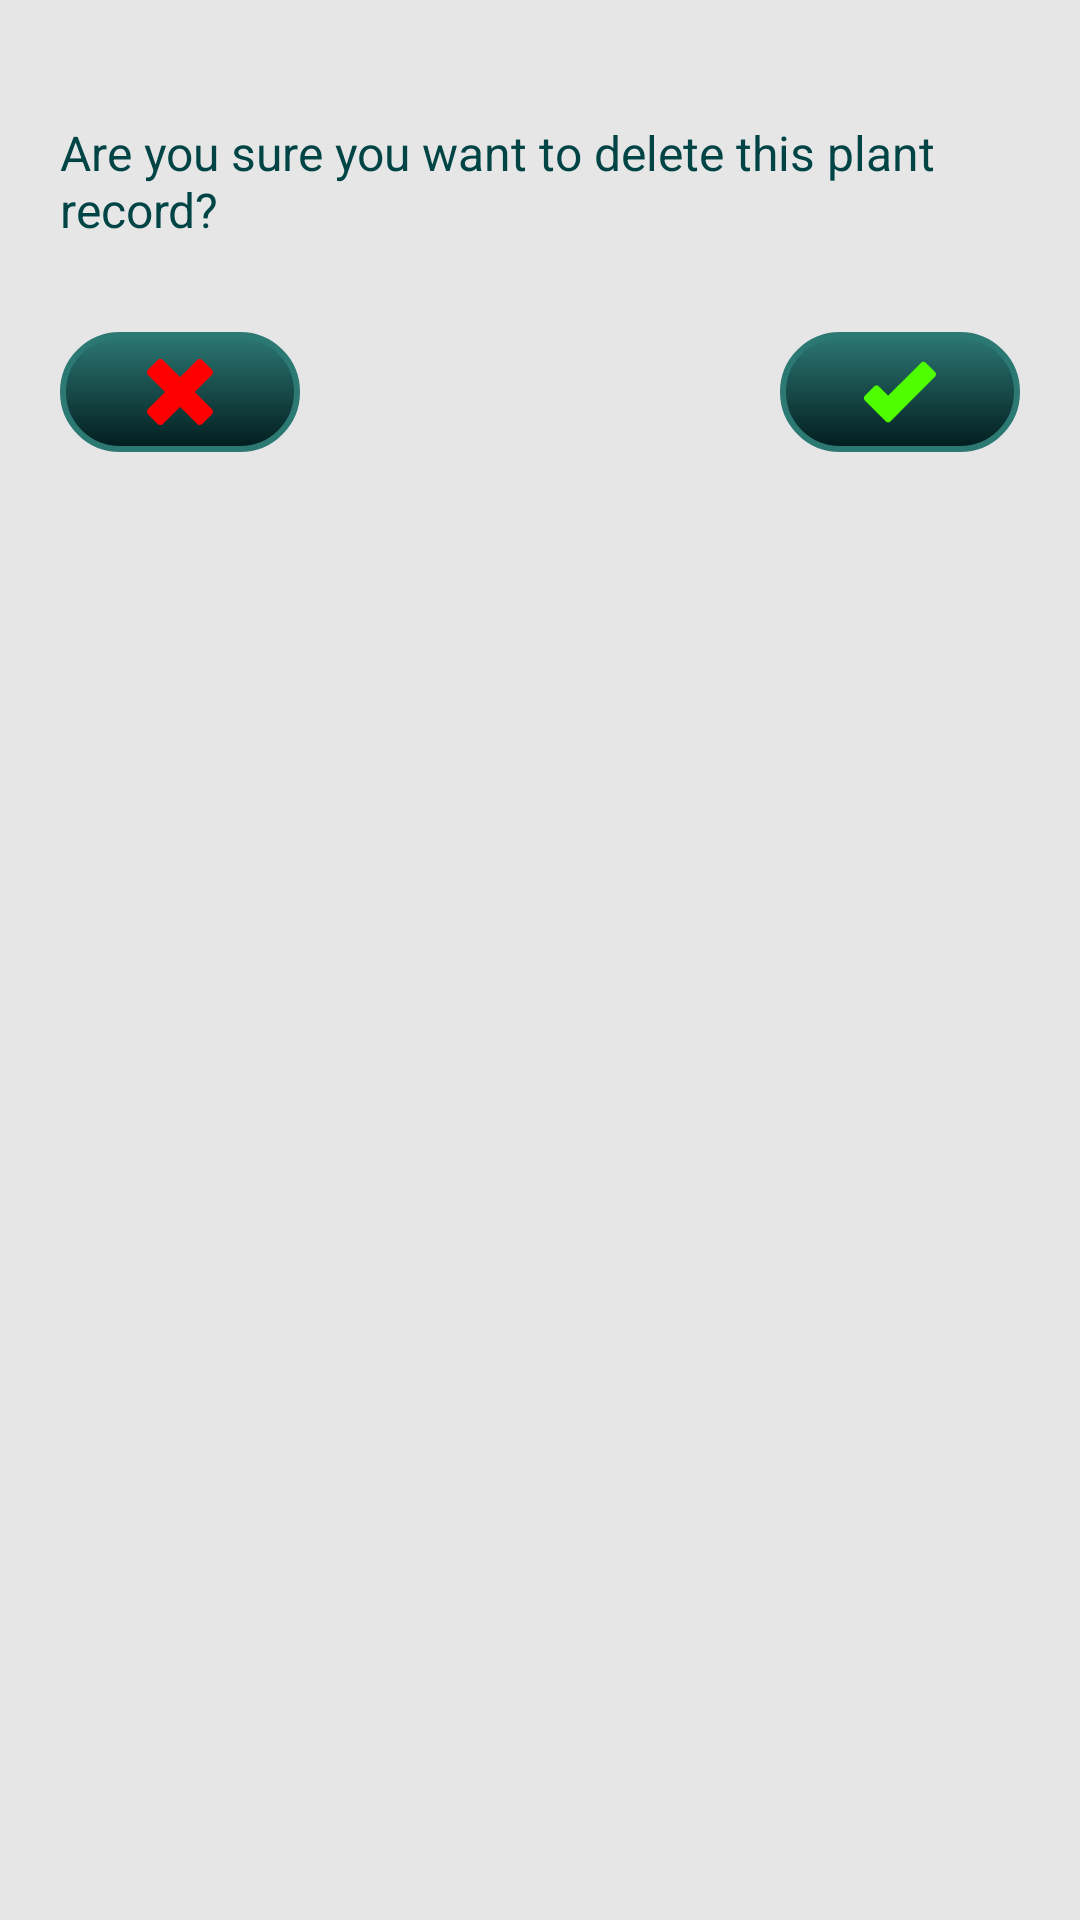

Screen size 1080w x 1920h. Icon name, then its center in pixels as point (x, y):
Cancel icon: point (180, 392)
Tick icon: point (900, 392)
